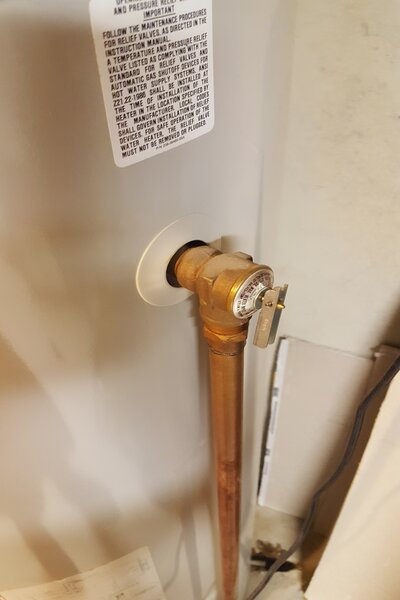valve: (167, 240, 290, 373)
